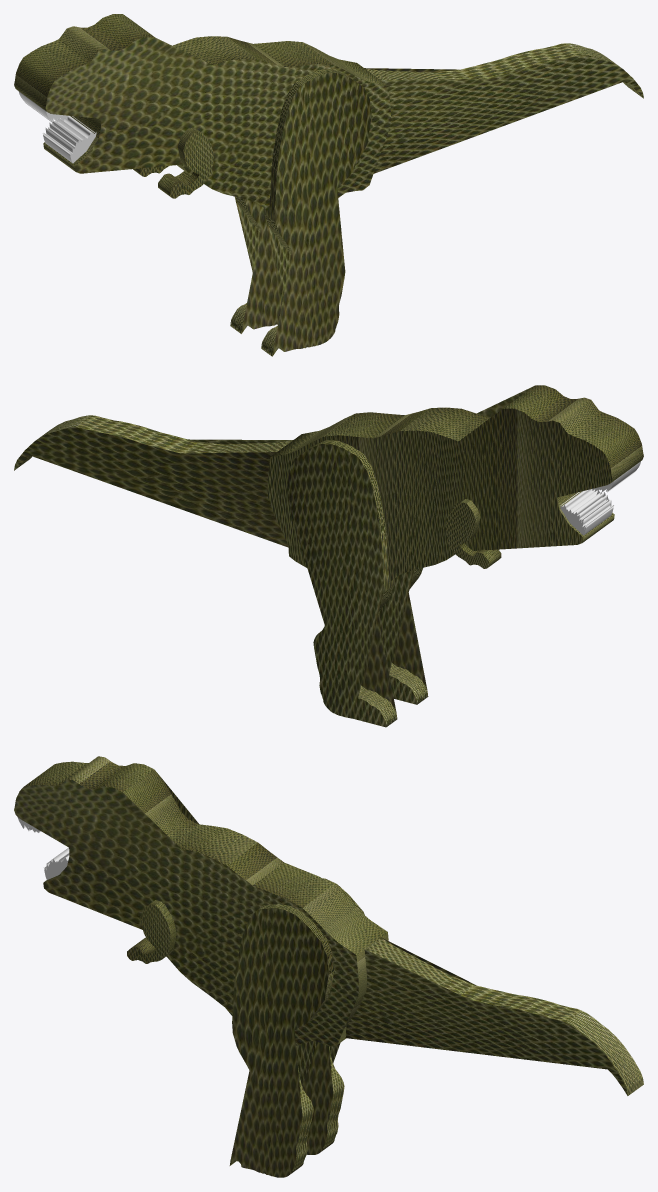
File: Dino.fbx
The picture shows the model from 3 angles, top to bottom: view 1: azimuth 30°, elevation 25°; view 2: azimuth 150°, elevation 25°; view 3: azimuth 330°, elevation 25°; orthographic projection.
Visible parts, largest first — view 1: pCube1, pCube2, pCube4, pCube6, pCube3, pCube8; view 2: pCube1, pCube6, pCube4, pCube2, pCube5, pCube8; view 3: pCube1, pCube2, pCube4, pCube6, pCube3.
Boxes of the visible parts, x1=… form: pCube1: x1=14, y1=14, x2=390, y2=211; pCube2: x1=261, y1=69, x2=371, y2=356; pCube4: x1=364, y1=43, x2=643, y2=173; pCube6: x1=230, y1=196, x2=283, y2=333; pCube3: x1=158, y1=127, x2=213, y2=198; pCube8: x1=42, y1=115, x2=96, y2=163; pCube1: x1=267, y1=385, x2=643, y2=582; pCube6: x1=287, y1=440, x2=397, y2=727; pCube4: x1=14, y1=415, x2=292, y2=547; pCube2: x1=378, y1=568, x2=428, y2=704; pCube5: x1=445, y1=499, x2=501, y2=568; pCube8: x1=560, y1=489, x2=613, y2=535; pCube1: x1=14, y1=756, x2=388, y2=1046; pCube2: x1=229, y1=904, x2=333, y2=1177; pCube4: x1=345, y1=937, x2=643, y2=1095; pCube6: x1=302, y1=878, x2=364, y2=1154; pCube3: x1=127, y1=900, x2=176, y2=963.
Bounding box in the file's own units: 21.57 × 11.74 × 2.61.
Materials: 2 (1 with a texture image).
